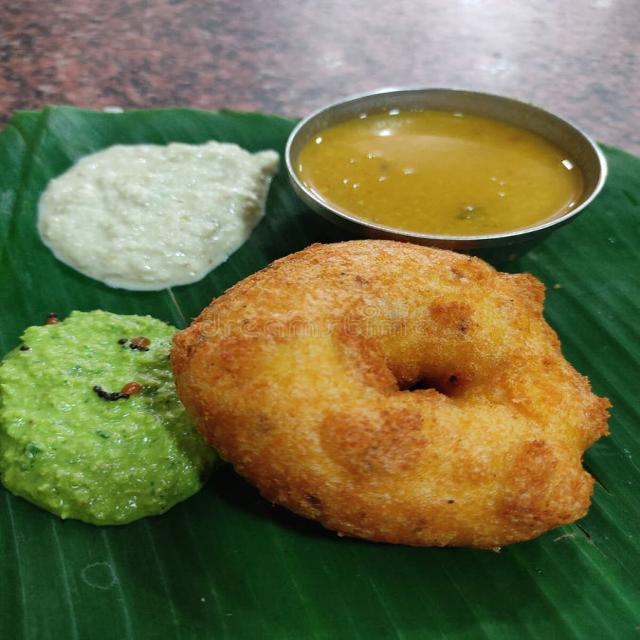MEDU VADA: (179, 242, 620, 546)
